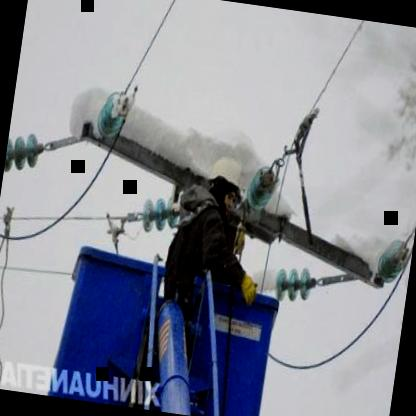helmet: (203, 149, 249, 221)
